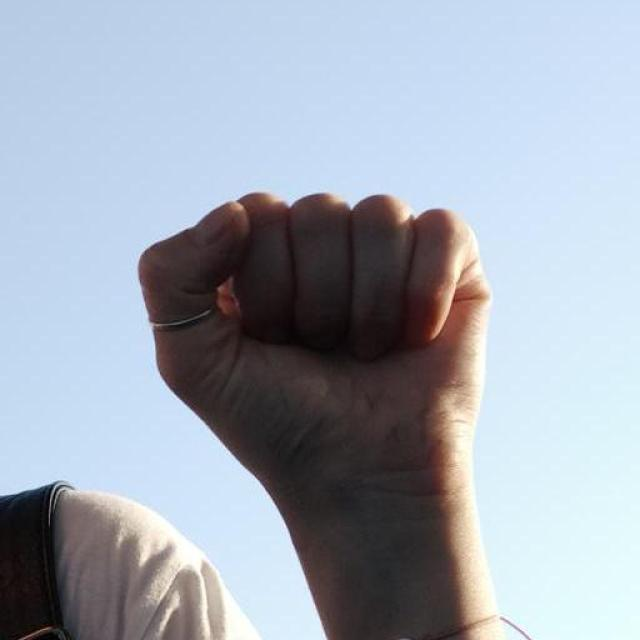hand: (136, 189, 504, 639)
